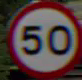Speed limit: (6, 2, 75, 73)
